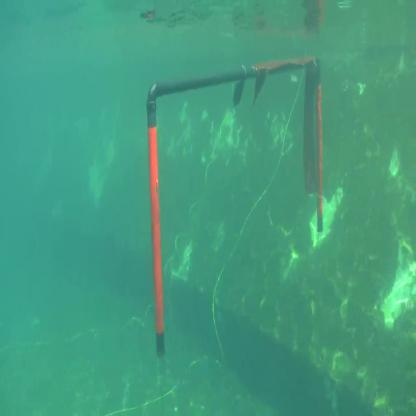gate: (146, 53, 326, 365)
